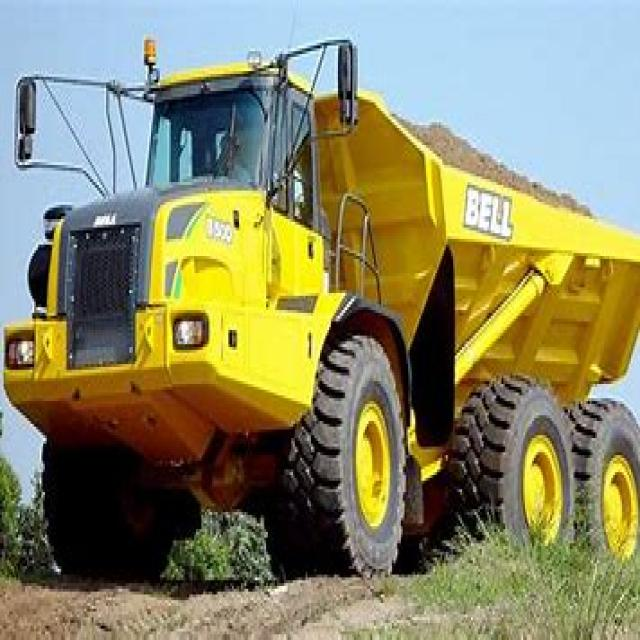dump_truck: (13, 34, 638, 578)
